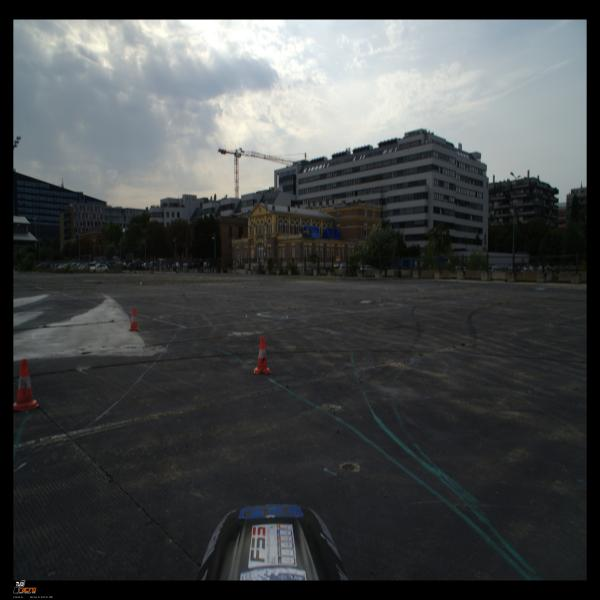orange_cone: (13, 359, 39, 411), (254, 336, 271, 374), (128, 307, 140, 332)
